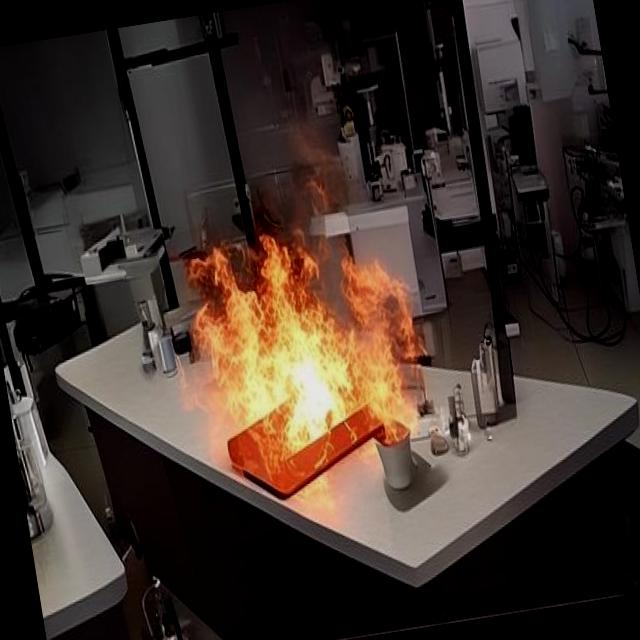fire: (175, 159, 452, 532)
